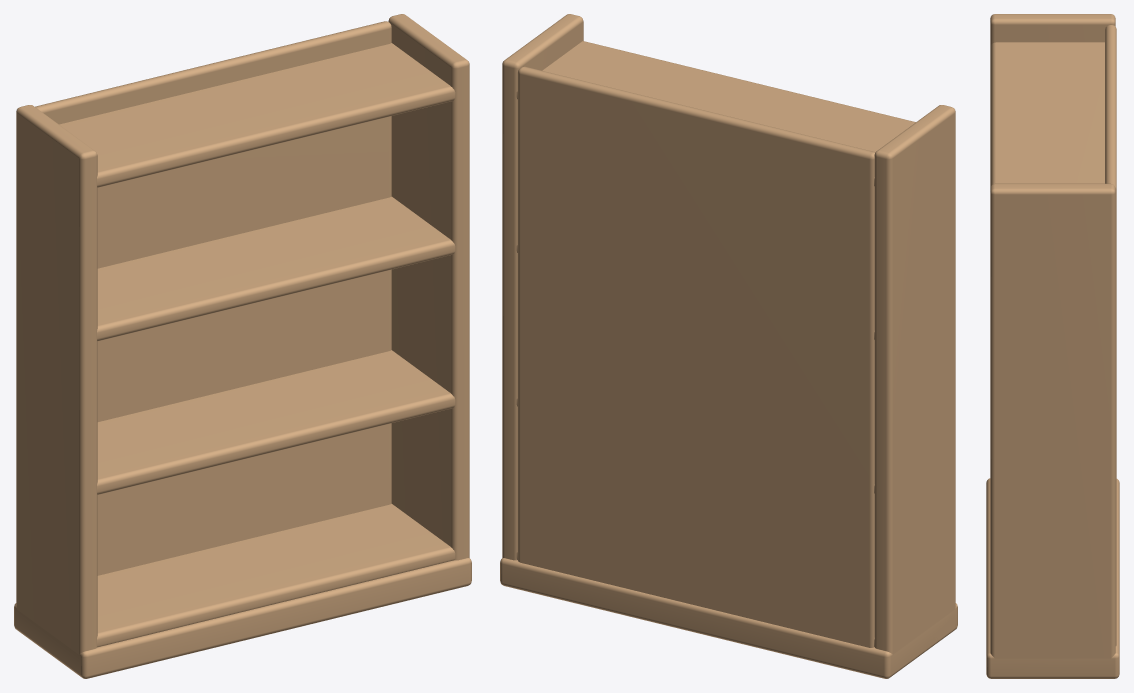
The model's file is natural-bookcase.glb.
3 views of the same model, side by side, from view 1: azimuth 30°, elevation 25°; view 2: azimuth 150°, elevation 25°; view 3: azimuth 270°, elevation 25° (orthographic). The views are drawn at different scales.
Parts seen in each view (by area): view 1: Side.002; view 2: Side.002; view 3: Side.002.
Part boxes in pixels (x1,y1,x2,y2): Side.002: (14, 14, 471, 678); Side.002: (500, 14, 957, 678); Side.002: (986, 14, 1119, 678).
Bounding box in the file's own units: 2.18 × 2.8 × 0.69.
